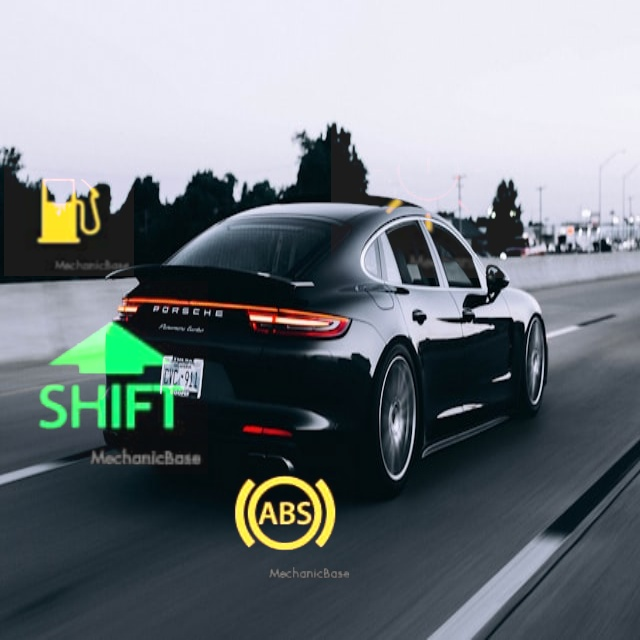symbol: (331, 79, 530, 278), (15, 281, 208, 474), (214, 444, 355, 585), (4, 146, 134, 276)
